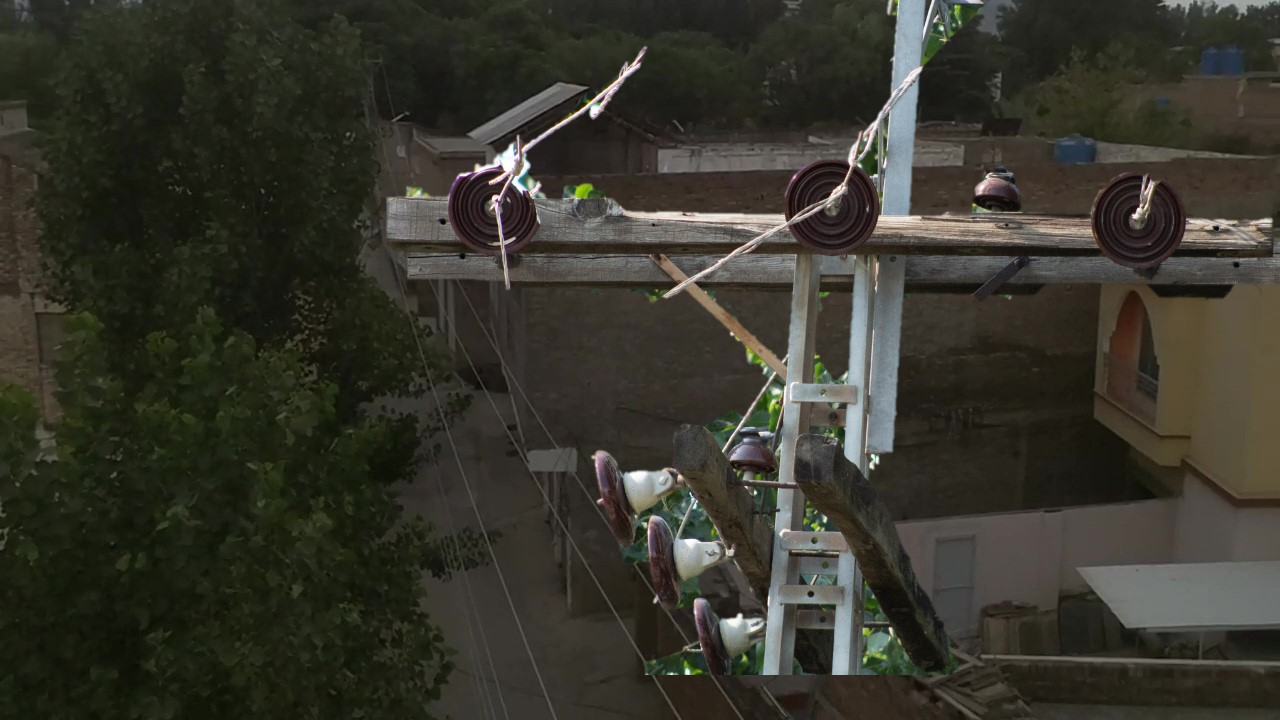defect_disc: (445, 153, 548, 252)
insulator_disc: (1084, 164, 1191, 269), (782, 154, 884, 252), (669, 598, 751, 678), (628, 515, 695, 612), (586, 442, 648, 542)
insulator_pin: (726, 426, 779, 478), (967, 164, 1021, 213)
